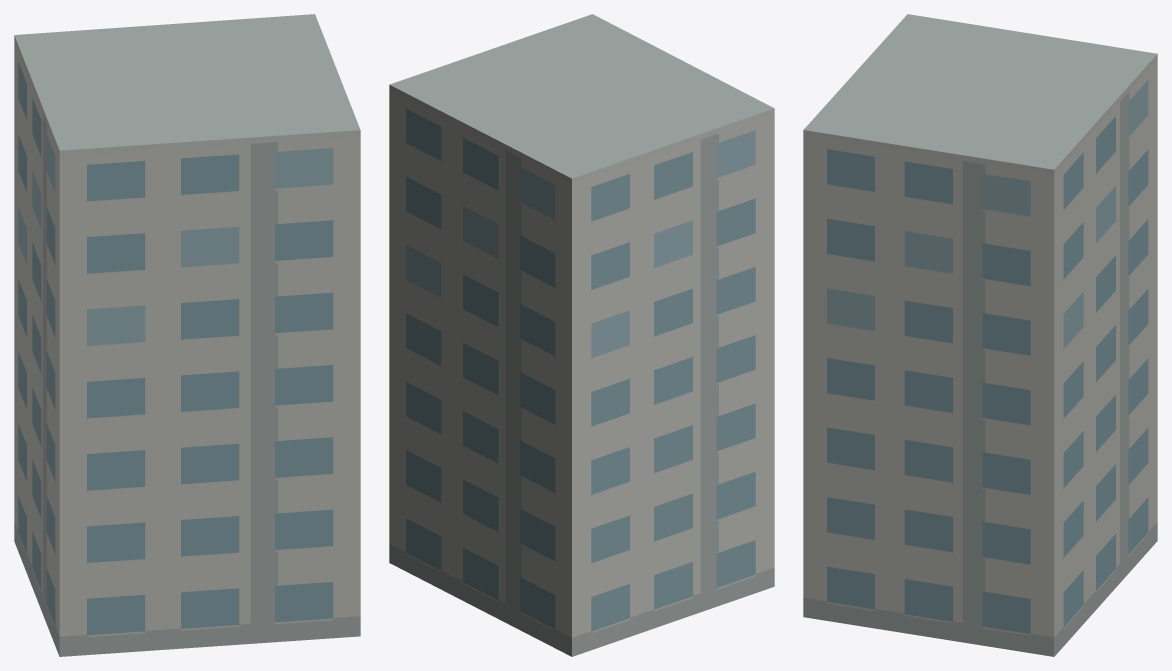
The model's file is survey-upis-32552375.glb.
3 renders of one model, left to right at view 1: azimuth 30°, elevation 25°; view 2: azimuth 150°, elevation 25°; view 3: azimuth 270°, elevation 25°, orthographic. The views are drawn at different scales.
Visible parts, largest first — view 1: survey-upis-32552375.tmp; view 2: survey-upis-32552375.tmp; view 3: survey-upis-32552375.tmp.
Boxes of the visible parts, left/top/right/bottom form: survey-upis-32552375.tmp: left=14, top=14, right=360, bottom=656; survey-upis-32552375.tmp: left=389, top=14, right=774, bottom=656; survey-upis-32552375.tmp: left=803, top=14, right=1157, bottom=656.
Size of the model in its own units: 13.82 by 20.15 by 13.29.
